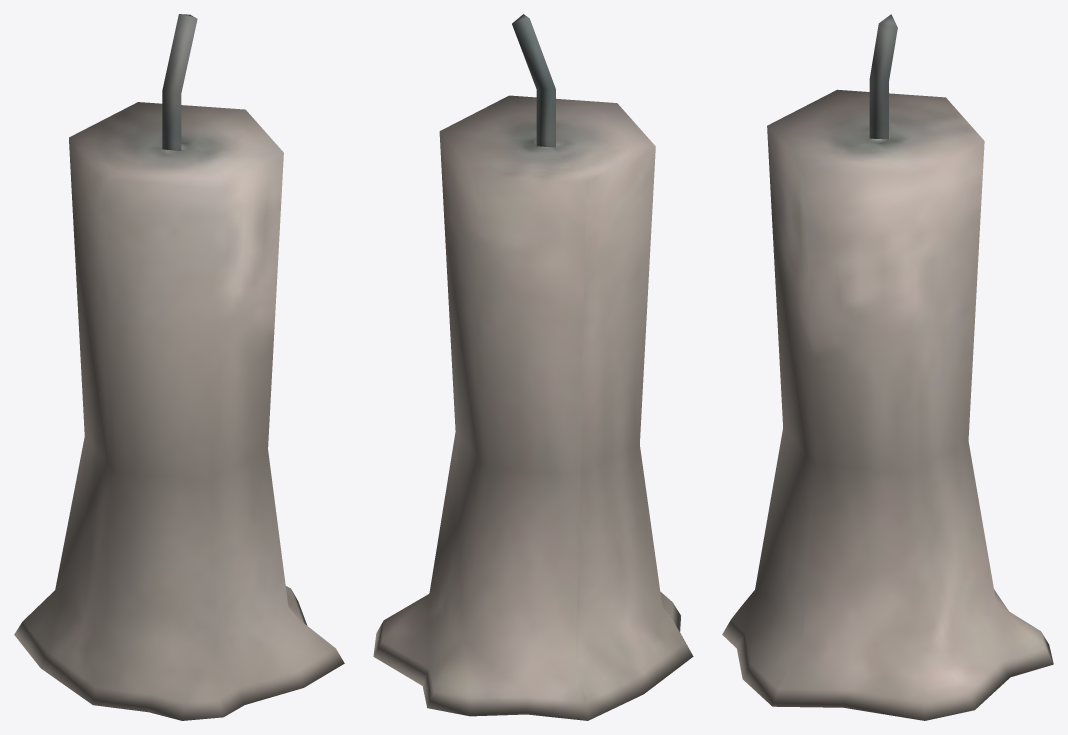
The model's file is Stage_DiXiaCheng_LaZhu02.FBX.
3 views of the same model, side by side, from view 1: azimuth 30°, elevation 25°; view 2: azimuth 150°, elevation 25°; view 3: azimuth 270°, elevation 25° (orthographic).
Parts seen in each view (by area): view 1: Stage_DiXiaCheng_LaZhu02; view 2: Stage_DiXiaCheng_LaZhu02; view 3: Stage_DiXiaCheng_LaZhu02.
Boxes of the visible parts, x1,y1,x2,y2 form: Stage_DiXiaCheng_LaZhu02: (14, 14, 344, 720); Stage_DiXiaCheng_LaZhu02: (373, 14, 693, 720); Stage_DiXiaCheng_LaZhu02: (722, 14, 1053, 720).
Size of the model in its own units: 17.69 by 40.83 by 19.18.
